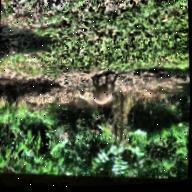boar: (83, 63, 123, 109)
